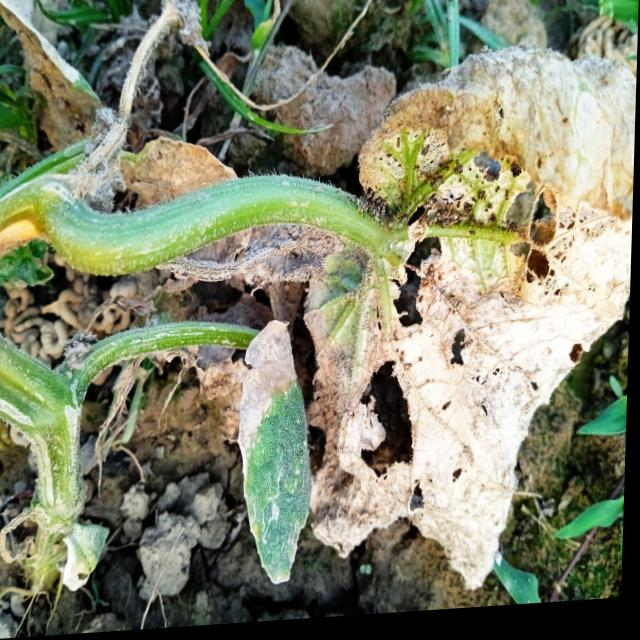Bacterial-Wilt: (300, 50, 637, 596)
